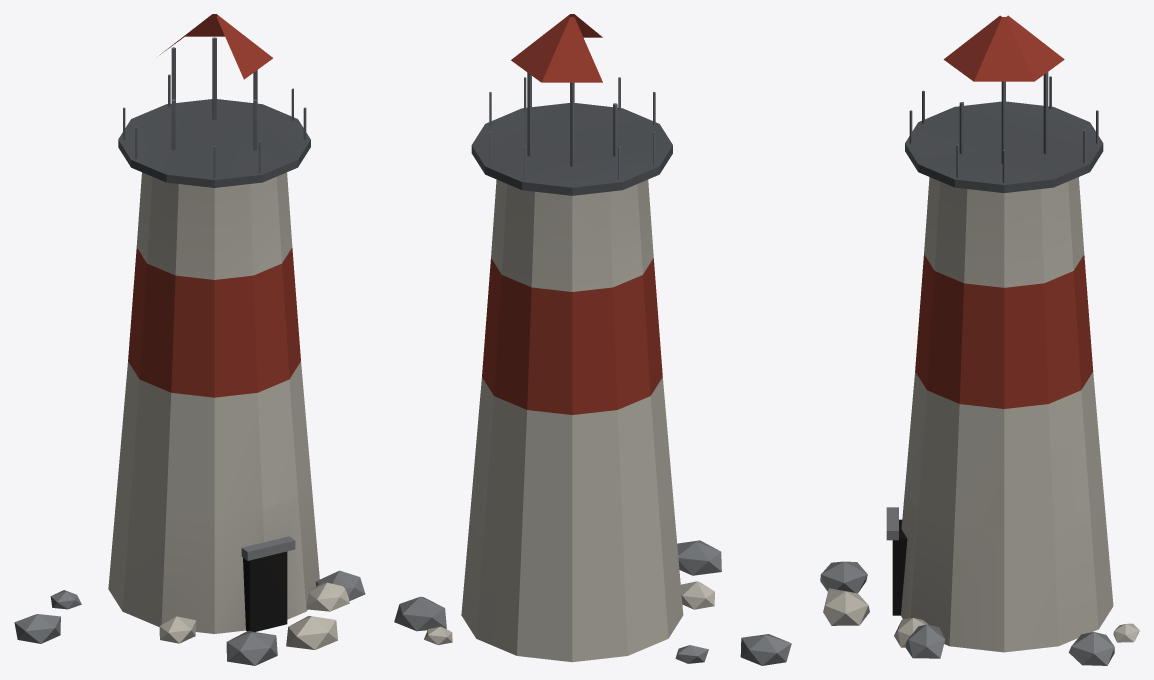
The model's file is Lighthouse.fbx.
3 renders of one model, left to right at view 1: azimuth 30°, elevation 25°; view 2: azimuth 150°, elevation 25°; view 3: azimuth 270°, elevation 25°, orthographic. The views are drawn at different scales.
Visible parts, largest first — view 1: Lighthouse; view 2: Lighthouse; view 3: Lighthouse.
Part boxes in pixels (x1,y1,x2,y2): Lighthouse: (14,14,365,665); Lighthouse: (394,14,791,665); Lighthouse: (820,15,1139,665).
Bounding box in the file's own units: 9.47 × 16.1 × 7.89.
